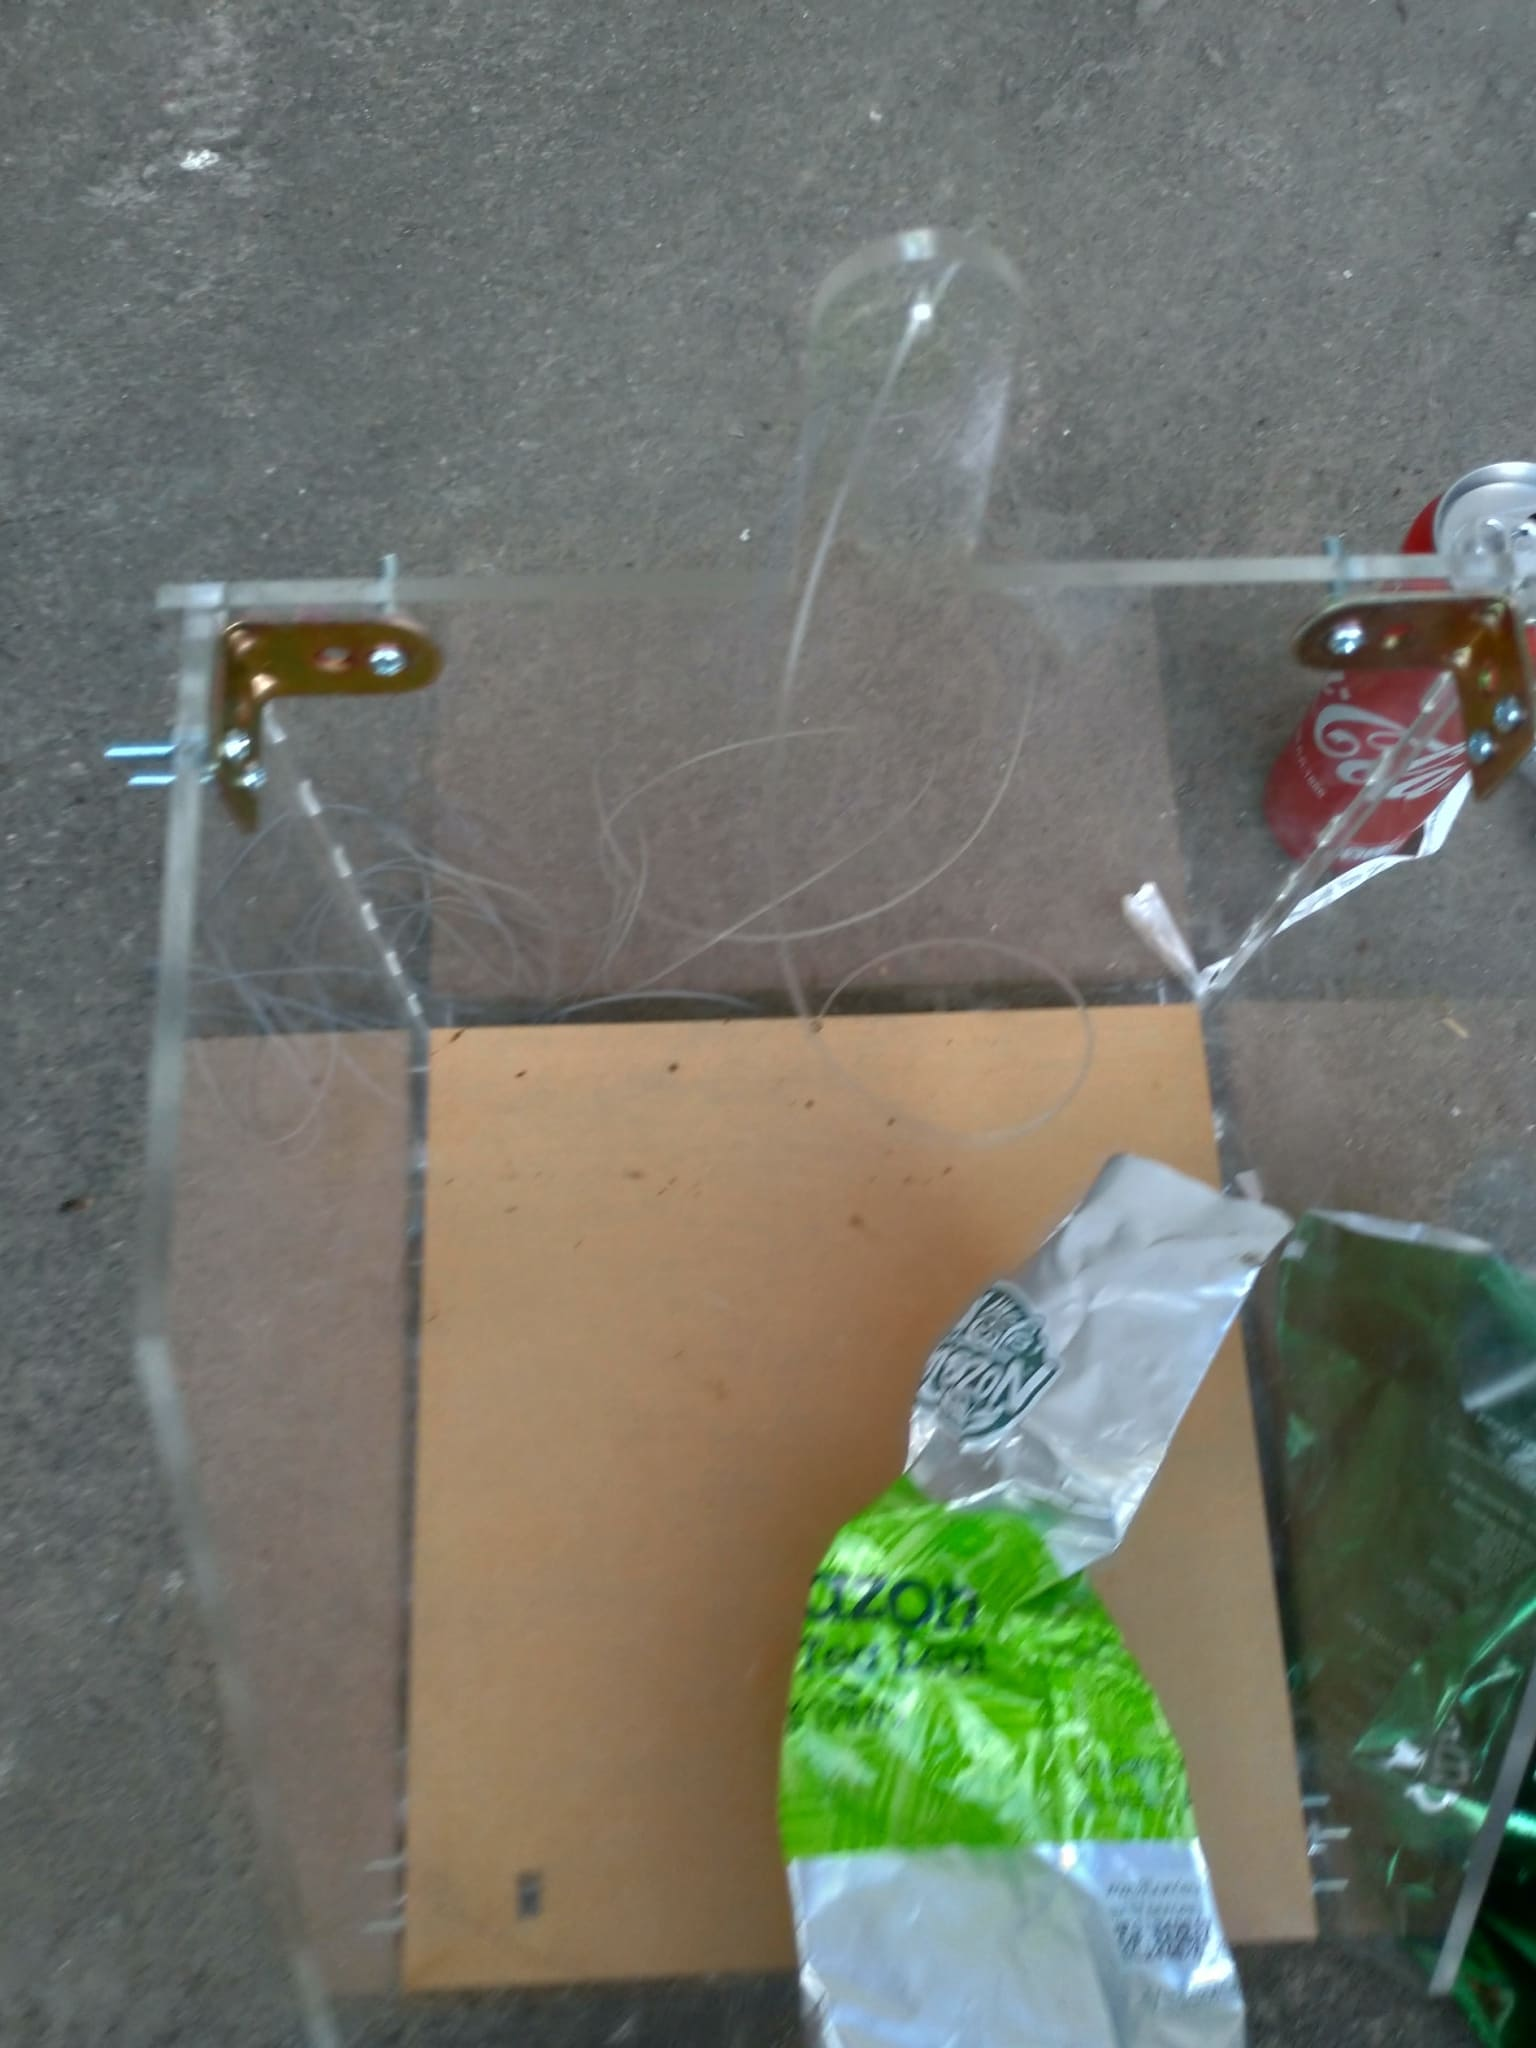AlCan: (1263, 468, 1518, 864)
Others: (794, 1164, 1297, 2048), (1279, 1205, 1533, 2048)
